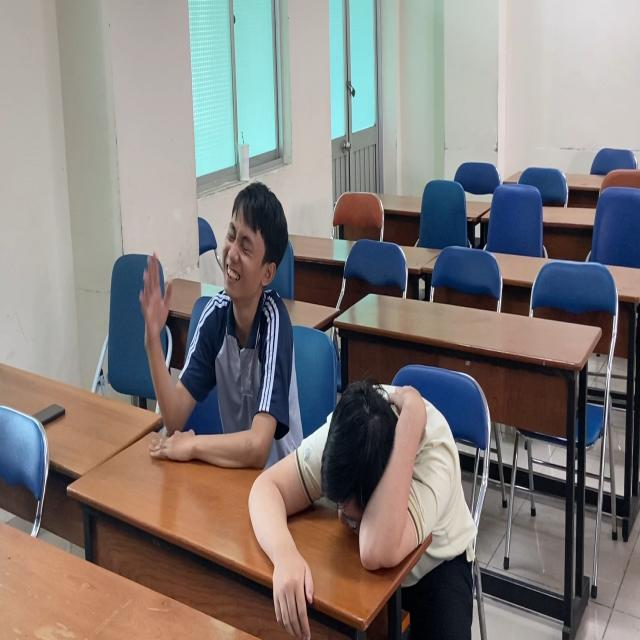sleep: (244, 374, 476, 627)
